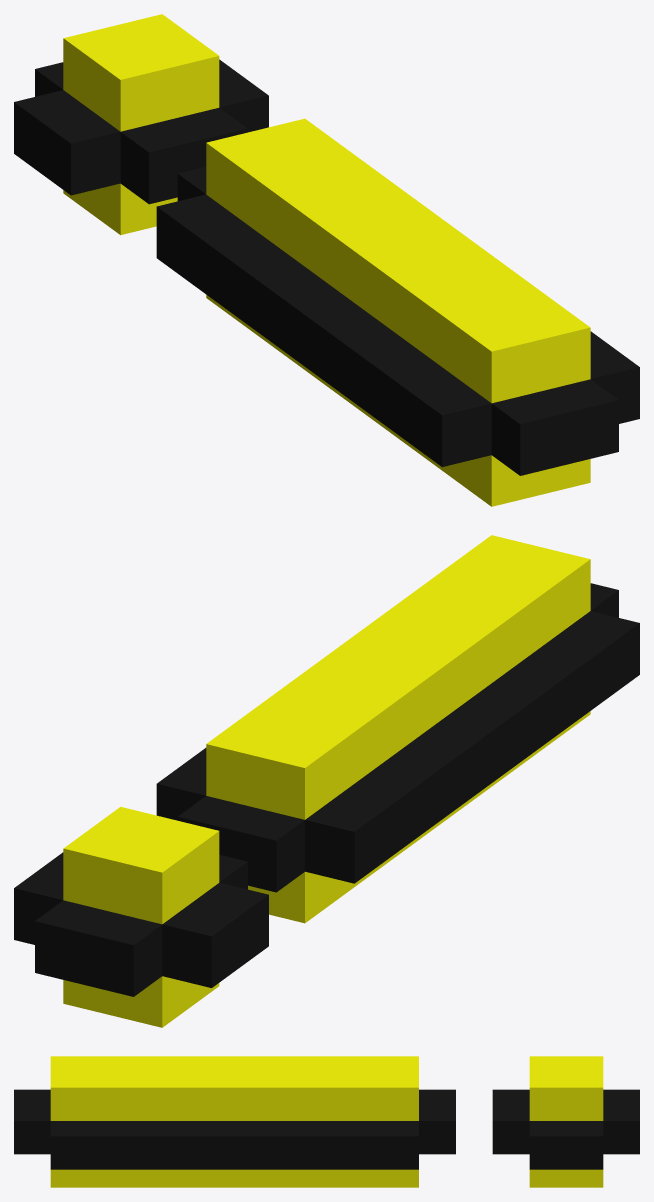
Rendered from quest.obj.
3 renders of one model, top to bottom at view 1: azimuth 30°, elevation 25°; view 2: azimuth 150°, elevation 25°; view 3: azimuth 270°, elevation 25°, orthographic. The views are drawn at different scales.
Bounding box in the file's own units: 4 × 3 × 17.
Materials: 1 (1 with a texture image).
